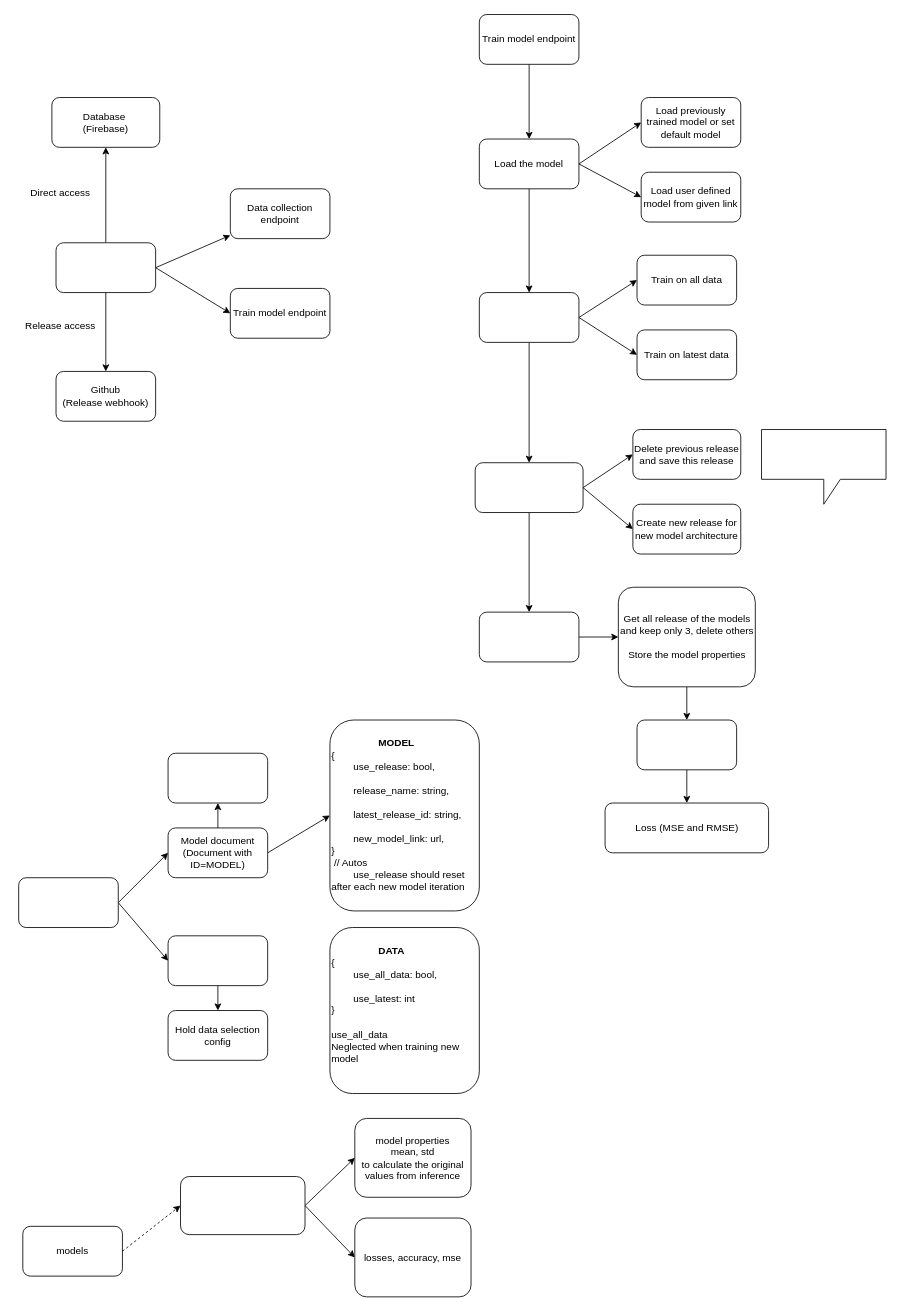
Some shapes in this 901 by 1311 pixel diagram are drawn without their labels. Each missing label, with the centre of its shape:
"App Configuration" goes at point 68,902.
"Cleanup and save the model properties to firestore" goes at point 528,636.
"Cloud Run Instance (data collection)" goes at point 105,267.
"Data configuration" goes at point 528,317.
"Data Document (Document with ID=DATA)" goes at point 217,960.
"Hold model selection configurations" goes at point 217,777.
"Keep last 3 release of any model" goes at point 823,466.
"Model properties" goes at point 686,744.
"model_name.v1.train1" goes at point 242,1205.
"Release configuration" goes at point 528,487.
